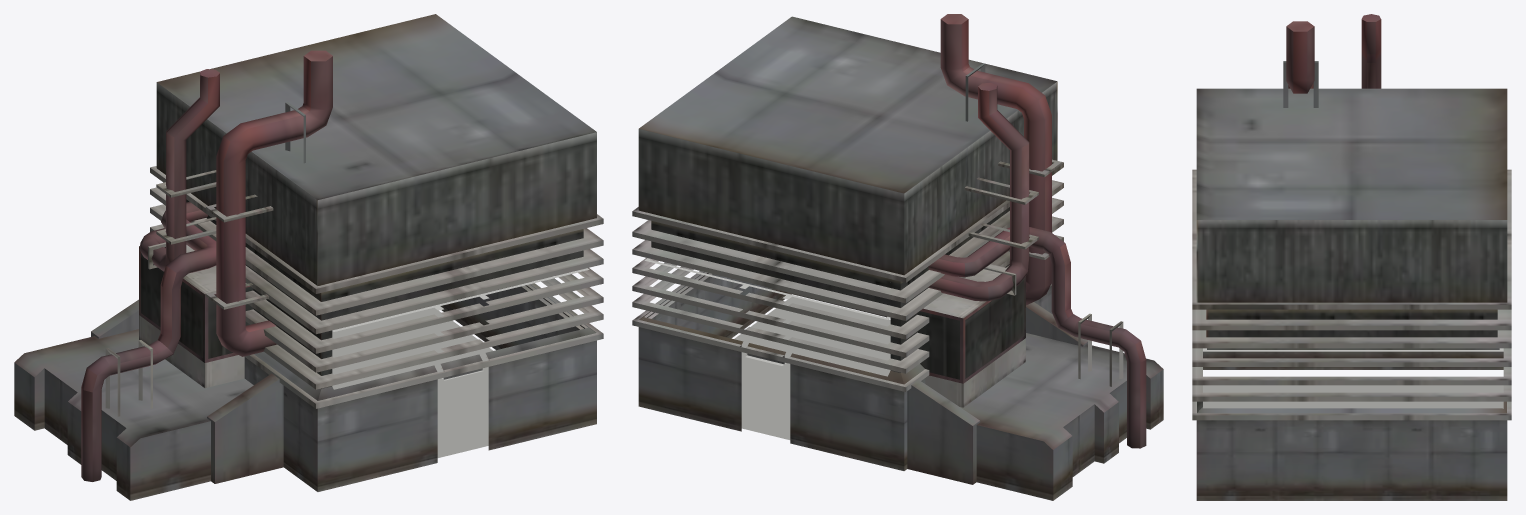
File: ind-smith.access-v12.lod1.glb
3 renders of one model, left to right at view 1: azimuth 30°, elevation 25°; view 2: azimuth 150°, elevation 25°; view 3: azimuth 270°, elevation 25°, orthographic. The views are drawn at different scales.
Parts seen in each view (by area): view 1: Industrial_Smth_1_Industrial_Walls_FLR_1_0, Walkable floors and stairs (×2); view 2: Industrial_Smth_1_Industrial_Walls_FLR_1_0, Walkable floors and stairs (×2); view 3: Industrial_Smth_1_Industrial_Walls_FLR_1_0, Walkable floors and stairs (×2).
Boxes of the visible parts, left/top/right/bottom form: Industrial_Smth_1_Industrial_Walls_FLR_1_0: left=14, top=14, right=603, bottom=500; Walkable floors and stairs (×2): left=332, top=268, right=589, bottom=457; Industrial_Smth_1_Industrial_Walls_FLR_1_0: left=632, top=14, right=1163, bottom=500; Walkable floors and stairs (×2): left=644, top=258, right=890, bottom=439; Industrial_Smth_1_Industrial_Walls_FLR_1_0: left=1192, top=14, right=1511, bottom=500; Walkable floors and stairs (×2): left=1203, top=348, right=1503, bottom=408.
Size of the model in its own units: 18.34 by 15.04 by 11.8.
Materials: 3 (1 with a texture image).
